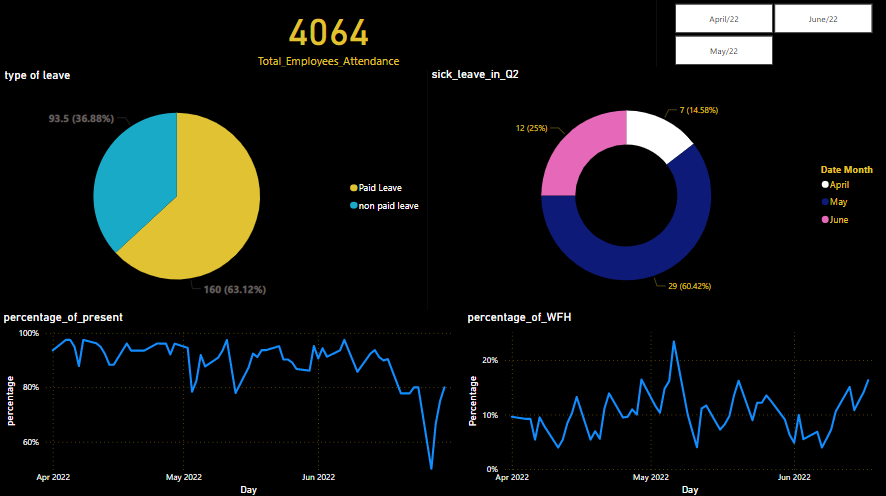

The page's visual inventory and layout, read from the dashboard file:
{"tool":"powerbi","page":{"name":"Page 1","canvas":[1280,720],"ordinal":0},"visuals":[{"type":"pieChart","title":"type of leave","fields":{"Y":["Calculations and measures.Total_PL","Calculations and measures.total_LWP"]},"box":[0,97.4,616.5,351.1],"z":0},{"type":"lineChart","title":"percentage_of_present ","fields":{"Y":["Calculations and measures.percentage_of_present"],"Category":["final_data.Date.Variation.Date Hierarchy.Year","final_data.Date.Variation.Date Hierarchy.Quarter","final_data.Date.Variation.Date Hierarchy.Month","final_data.Date.Variation.Date Hierarchy.Day"]},"box":[0,448.5,668.6,272.1],"z":1000},{"type":"donutChart","title":"sick_leave_in_Q2","fields":{"Y":["Calculations and measures.Tatal_sick_leave"],"Category":["final_data.Date.Variation.Date Hierarchy.Month","final_data.Date.Variation.Date Hierarchy.Day"]},"box":[616.5,97.4,663.5,351.1],"z":2000},{"type":"slicer","fields":{"Values":["final_data.month"]},"box":[946.1,0,334.1,102.2],"z":3000},{"type":"lineChart","title":"percentage_of_WFH ","fields":{"Y":["Calculations and measures.percentage_of_WFH"],"Category":["final_data.Date"]},"box":[668.6,448.5,611.4,272.1],"z":4000},{"type":"card","fields":{"Values":["Calculations and measures.Total_Working_O&H"]},"box":[0,0,945.7,102.5],"z":5000}]}

Visuals, with their boxes in screenshot pixels (x1, y1, x2, y2), scaled from the page's 1280x720 canvas onto the 886x496 screenshot:
"type of leave" pieChart: select_region(0, 67, 427, 309)
"percentage_of_present " lineChart: select_region(0, 309, 463, 495)
"sick_leave_in_Q2" donutChart: select_region(427, 67, 885, 309)
slicer - final_data.month: select_region(655, 0, 885, 70)
"percentage_of_WFH " lineChart: select_region(463, 309, 885, 495)
card - Calculations and measures.Total_Working_O&H: select_region(0, 0, 655, 71)
